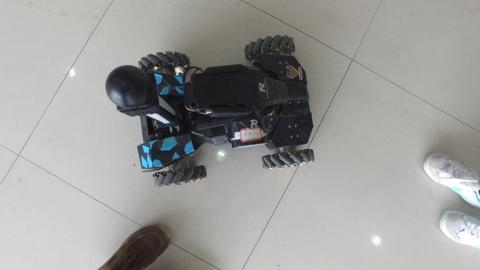chariot: (99, 32, 310, 186)
